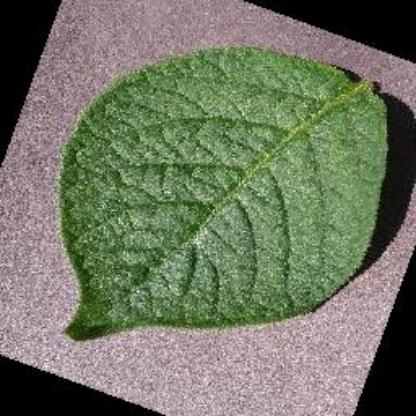Healthy-plant: (56, 42, 390, 344)
